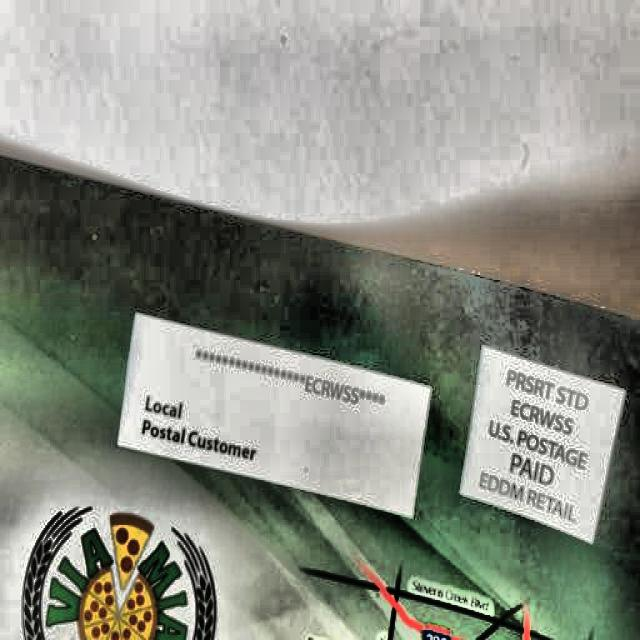paper: (0, 144, 640, 637)
